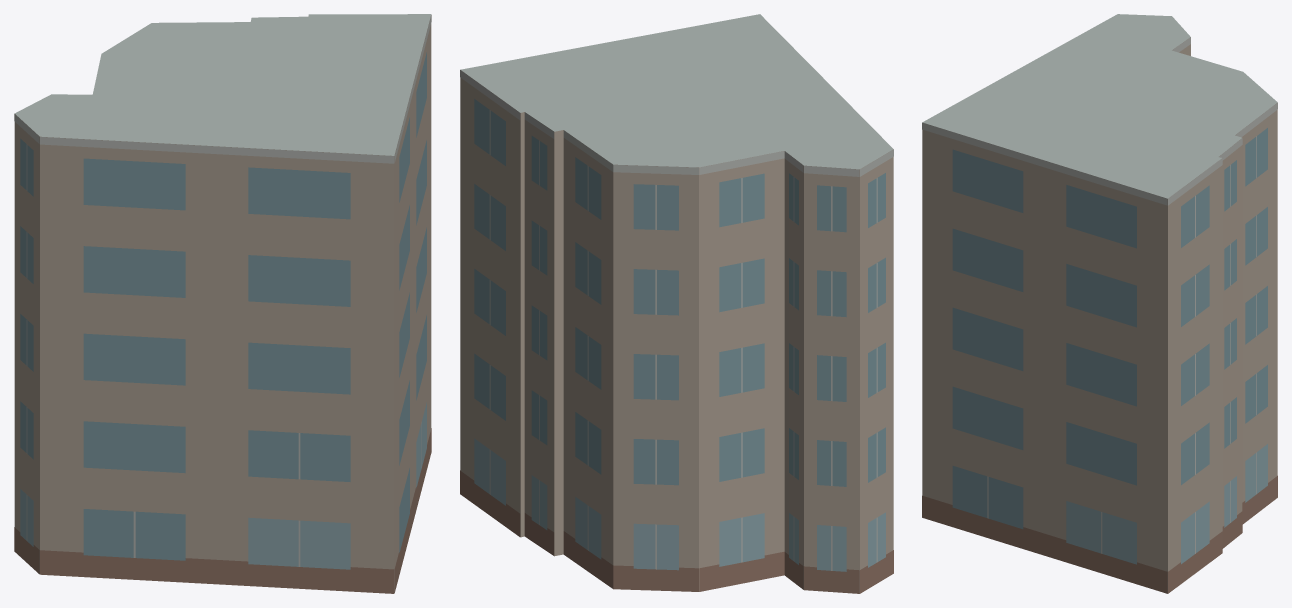
Rendered from survey-upis-33020047.glb.
3 views of the same model, side by side, from view 1: azimuth 30°, elevation 25°; view 2: azimuth 150°, elevation 25°; view 3: azimuth 270°, elevation 25° (orthographic). The views are drawn at different scales.
Visible parts, largest first — view 1: survey-upis-33020047.tmp; view 2: survey-upis-33020047.tmp; view 3: survey-upis-33020047.tmp.
Part boxes in pixels (x1,y1,x2,y2): survey-upis-33020047.tmp: (14, 14, 431, 593); survey-upis-33020047.tmp: (460, 14, 893, 593); survey-upis-33020047.tmp: (922, 14, 1277, 593).
Bounding box in the file's own units: 13.64 × 13.6 × 11.1.
